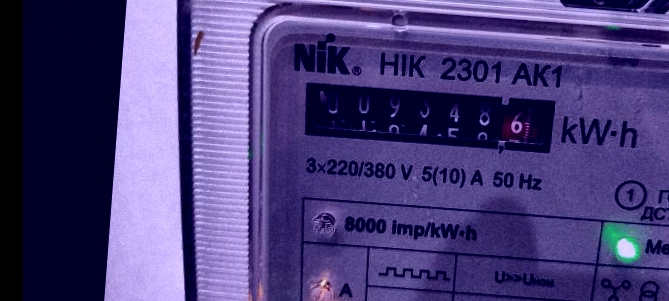0: (355, 90, 372, 114), (325, 88, 340, 115)
3: (416, 94, 432, 121)
4: (446, 96, 462, 124)
6: (507, 108, 526, 136)
8: (476, 99, 493, 128)
9: (385, 92, 402, 120)
screen: (292, 74, 565, 163)
